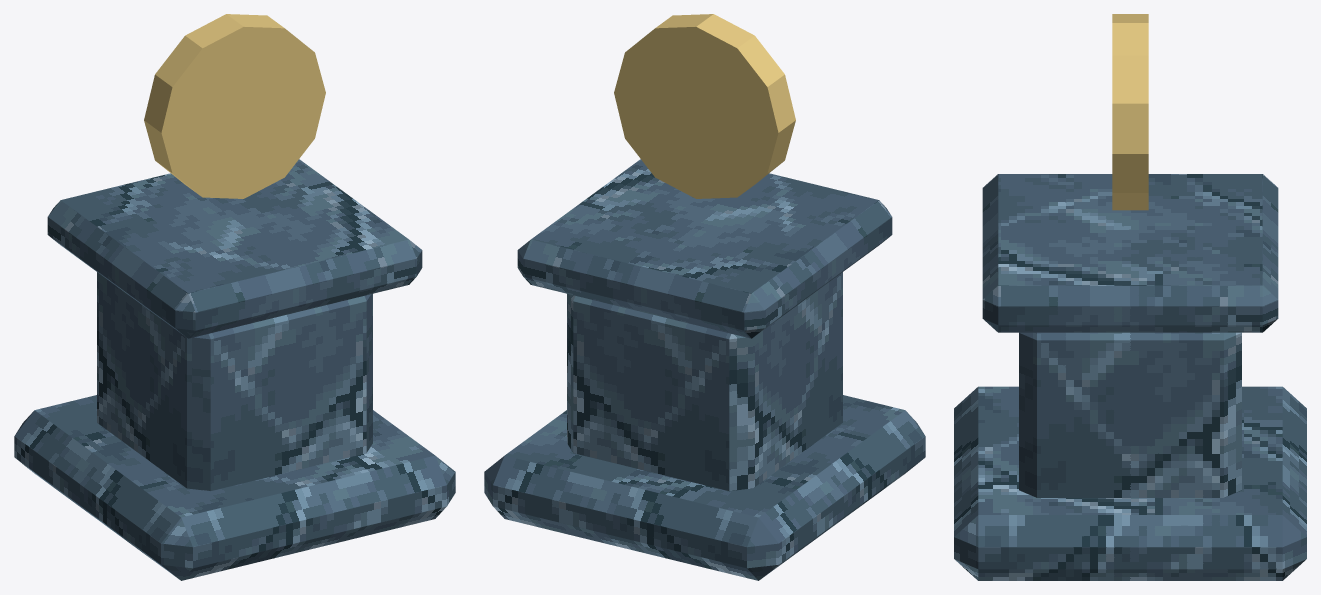
The model's file is pilar_galeao.glb.
3 renders of one model, left to right at view 1: azimuth 30°, elevation 25°; view 2: azimuth 150°, elevation 25°; view 3: azimuth 270°, elevation 25°, orthographic. The views are drawn at different scales.
Visible parts, largest first — view 1: neve_pilar_galeao; view 2: neve_pilar_galeao; view 3: neve_pilar_galeao.
Boxes of the visible parts, <box> form: neve_pilar_galeao: <box>14,14,455,580</box>; neve_pilar_galeao: <box>484,14,925,580</box>; neve_pilar_galeao: <box>954,14,1306,580</box>.
Size of the model in its own units: 0.68 by 1.05 by 0.68.
2 materials, 1 textured.
